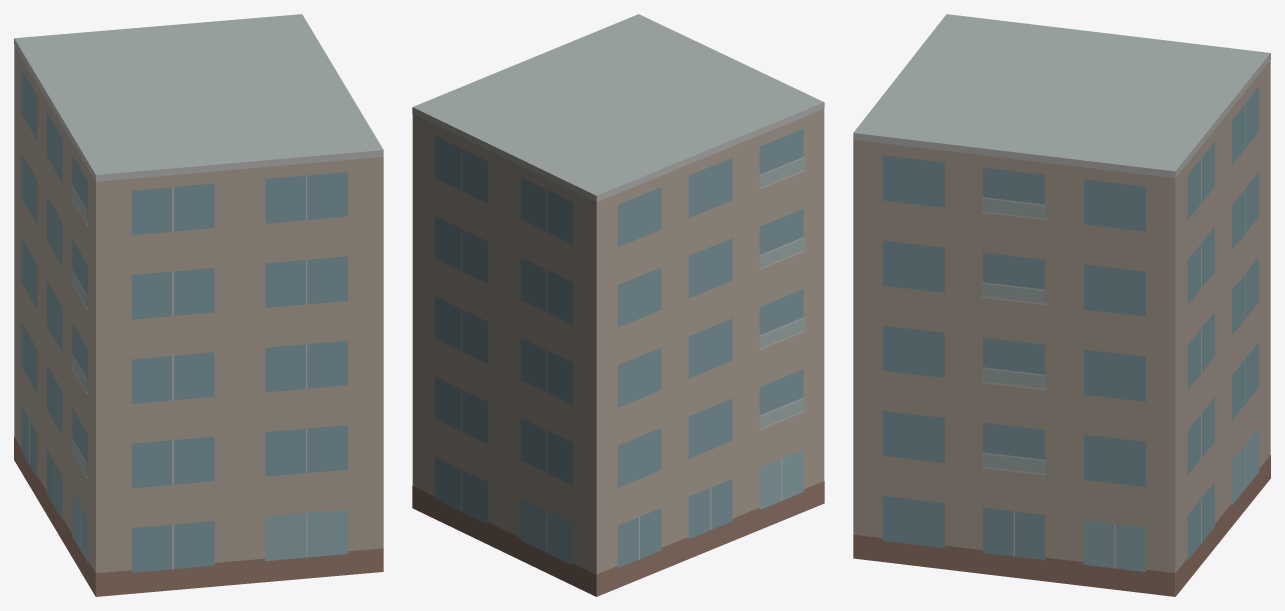
Rendered from survey-upis-32879207.glb.
3 renders of one model, left to right at view 1: azimuth 30°, elevation 25°; view 2: azimuth 150°, elevation 25°; view 3: azimuth 270°, elevation 25°, orthographic. The views are drawn at different scales.
Parts seen in each view (by area): view 1: survey-upis-32879207.tmp; view 2: survey-upis-32879207.tmp; view 3: survey-upis-32879207.tmp.
Boxes of the visible parts, box(x1,y1,x2,y2) form: survey-upis-32879207.tmp: box(14, 14, 383, 596); survey-upis-32879207.tmp: box(412, 14, 824, 596); survey-upis-32879207.tmp: box(853, 14, 1270, 596).
Size of the model in its own units: 12.07 by 15.2 by 13.53.
